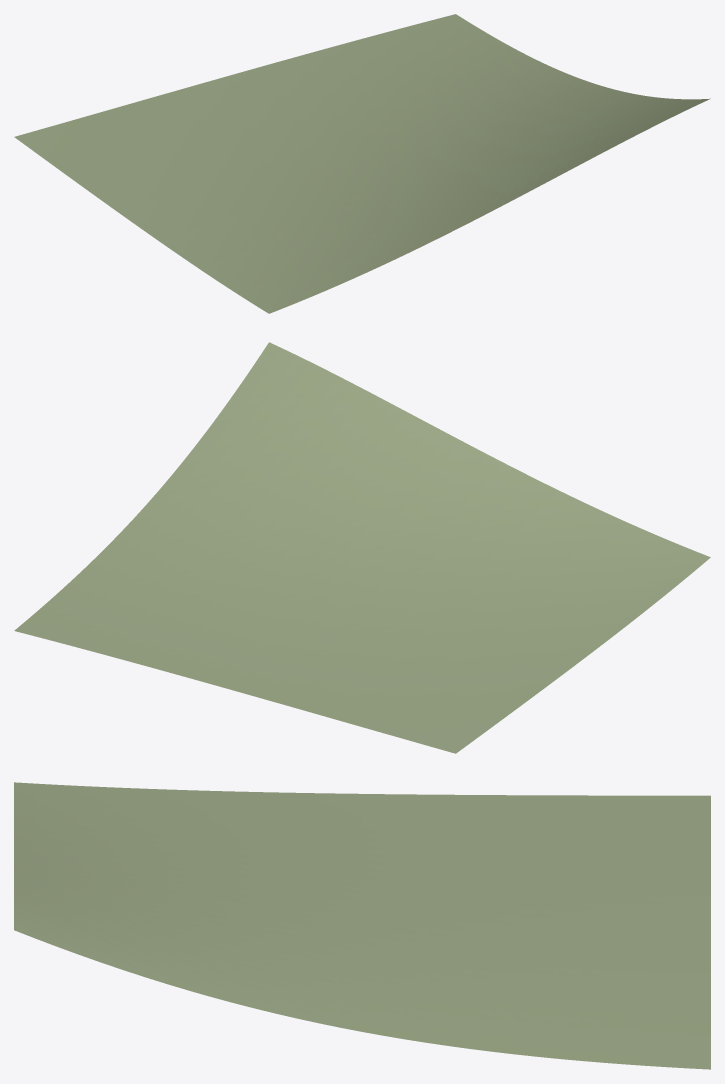
File: expanse-22-20.glb
The picture shows the model from 3 angles, top to bottom: view 1: azimuth 30°, elevation 25°; view 2: azimuth 150°, elevation 25°; view 3: azimuth 270°, elevation 25°; orthographic projection. The views are drawn at different scales.
Visible parts, largest first — view 1: expanse-22-20; view 2: expanse-22-20; view 3: expanse-22-20.
Boxes of the visible parts, left/top/right/bottom form: expanse-22-20: left=14, top=14, right=710, bottom=313; expanse-22-20: left=14, top=342, right=710, bottom=753; expanse-22-20: left=14, top=782, right=710, bottom=1069.
Size of the model in its own units: 256 by 64.83 by 256.
